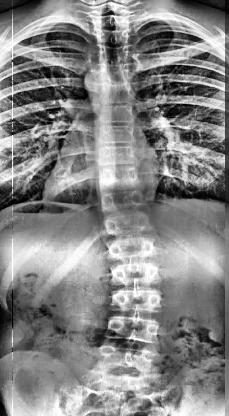Vertebrae: (96, 344, 164, 382), (104, 312, 160, 346), (100, 208, 156, 240), (109, 258, 165, 288), (109, 285, 166, 313), (105, 236, 161, 264), (98, 186, 150, 214), (96, 165, 142, 194), (94, 142, 140, 168), (94, 121, 138, 147), (97, 82, 135, 106), (96, 102, 136, 124), (96, 63, 134, 86), (95, 27, 133, 48), (96, 46, 134, 66)
